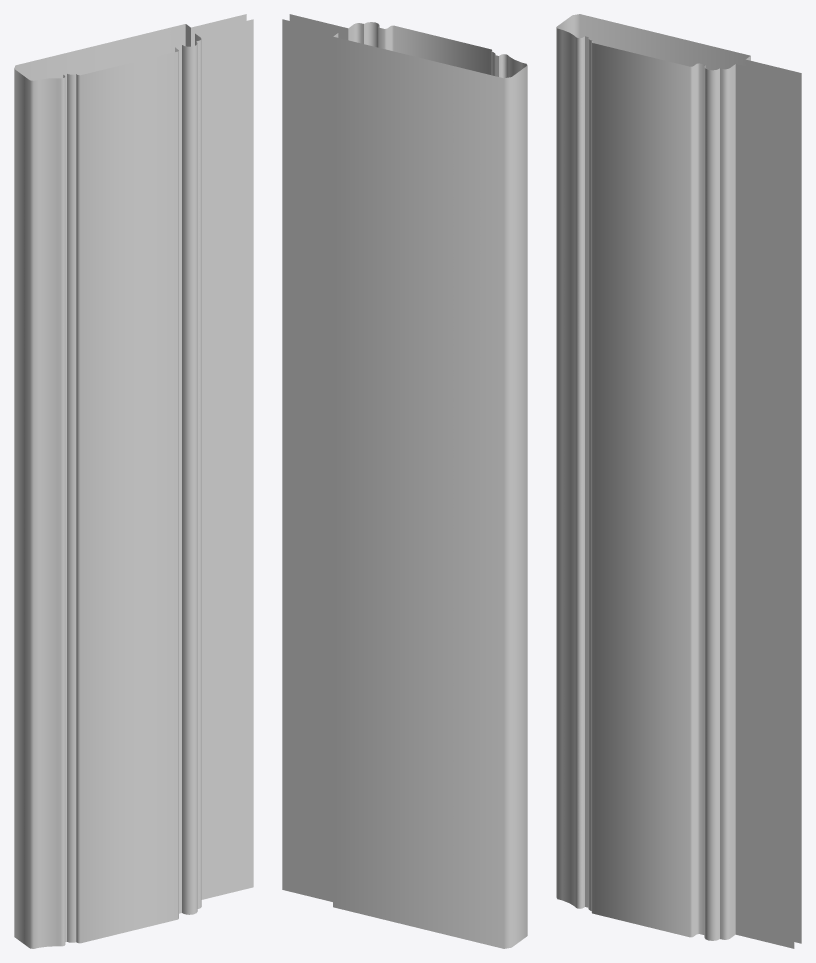
Rendered from original-53.obj.
The picture shows the model from 3 angles, left to right: view 1: azimuth 30°, elevation 25°; view 2: azimuth 150°, elevation 25°; view 3: azimuth 330°, elevation 25°; orthographic projection.
Parts seen in each view (by area): view 1: RT_11_CL1/RT_11_CL/mesh39/mesh39-geometry#mesh39-geometry; view 2: RT_11_CL1/RT_11_CL/mesh39/mesh39-geometry#mesh39-geometry; view 3: RT_11_CL1/RT_11_CL/mesh39/mesh39-geometry#mesh39-geometry.
Boxes of the visible parts, x1,y1,x2,y2 form: RT_11_CL1/RT_11_CL/mesh39/mesh39-geometry#mesh39-geometry: (14, 14, 253, 948); RT_11_CL1/RT_11_CL/mesh39/mesh39-geometry#mesh39-geometry: (282, 14, 527, 948); RT_11_CL1/RT_11_CL/mesh39/mesh39-geometry#mesh39-geometry: (556, 14, 801, 948).
Bounding box in the file's own units: 0.1703 × 0.6126 × 0.0338.
